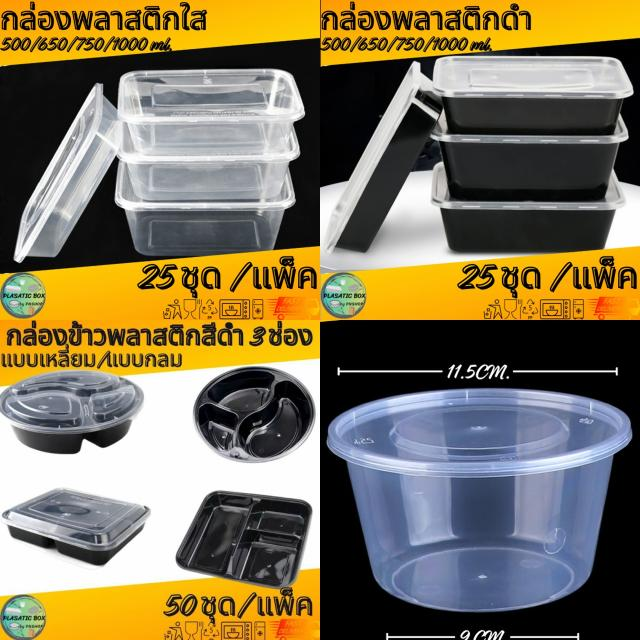Single-Use-Plastic: (328, 389, 631, 612), (324, 61, 441, 252), (14, 84, 121, 262), (431, 162, 626, 252), (115, 161, 295, 256), (431, 116, 628, 201), (119, 69, 305, 155), (432, 56, 634, 135), (176, 492, 311, 589), (118, 130, 299, 201), (0, 370, 144, 453), (194, 366, 315, 462), (2, 489, 150, 564)
